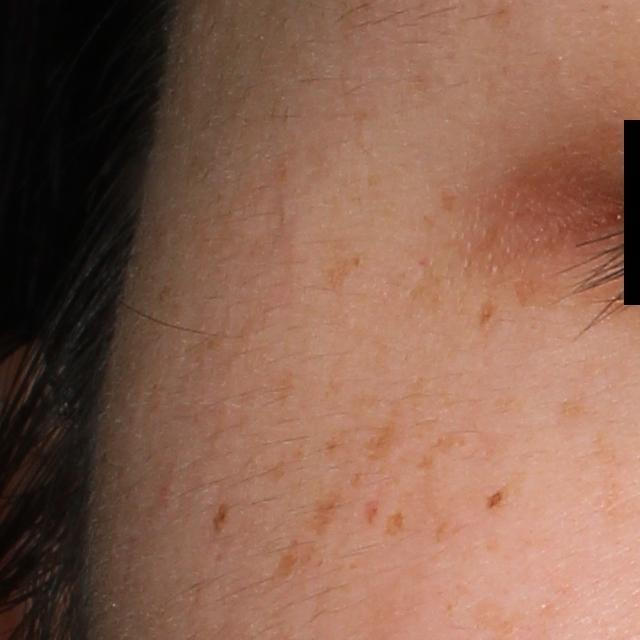melasma: (301, 477, 351, 541), (321, 241, 367, 304), (258, 535, 304, 596), (506, 271, 563, 314), (362, 418, 399, 464), (556, 390, 593, 427), (321, 425, 359, 458), (207, 498, 233, 545), (478, 284, 502, 332), (428, 429, 469, 457), (483, 485, 511, 516), (381, 507, 406, 538), (436, 186, 459, 218), (348, 464, 369, 490), (433, 515, 448, 547), (415, 455, 439, 474)
